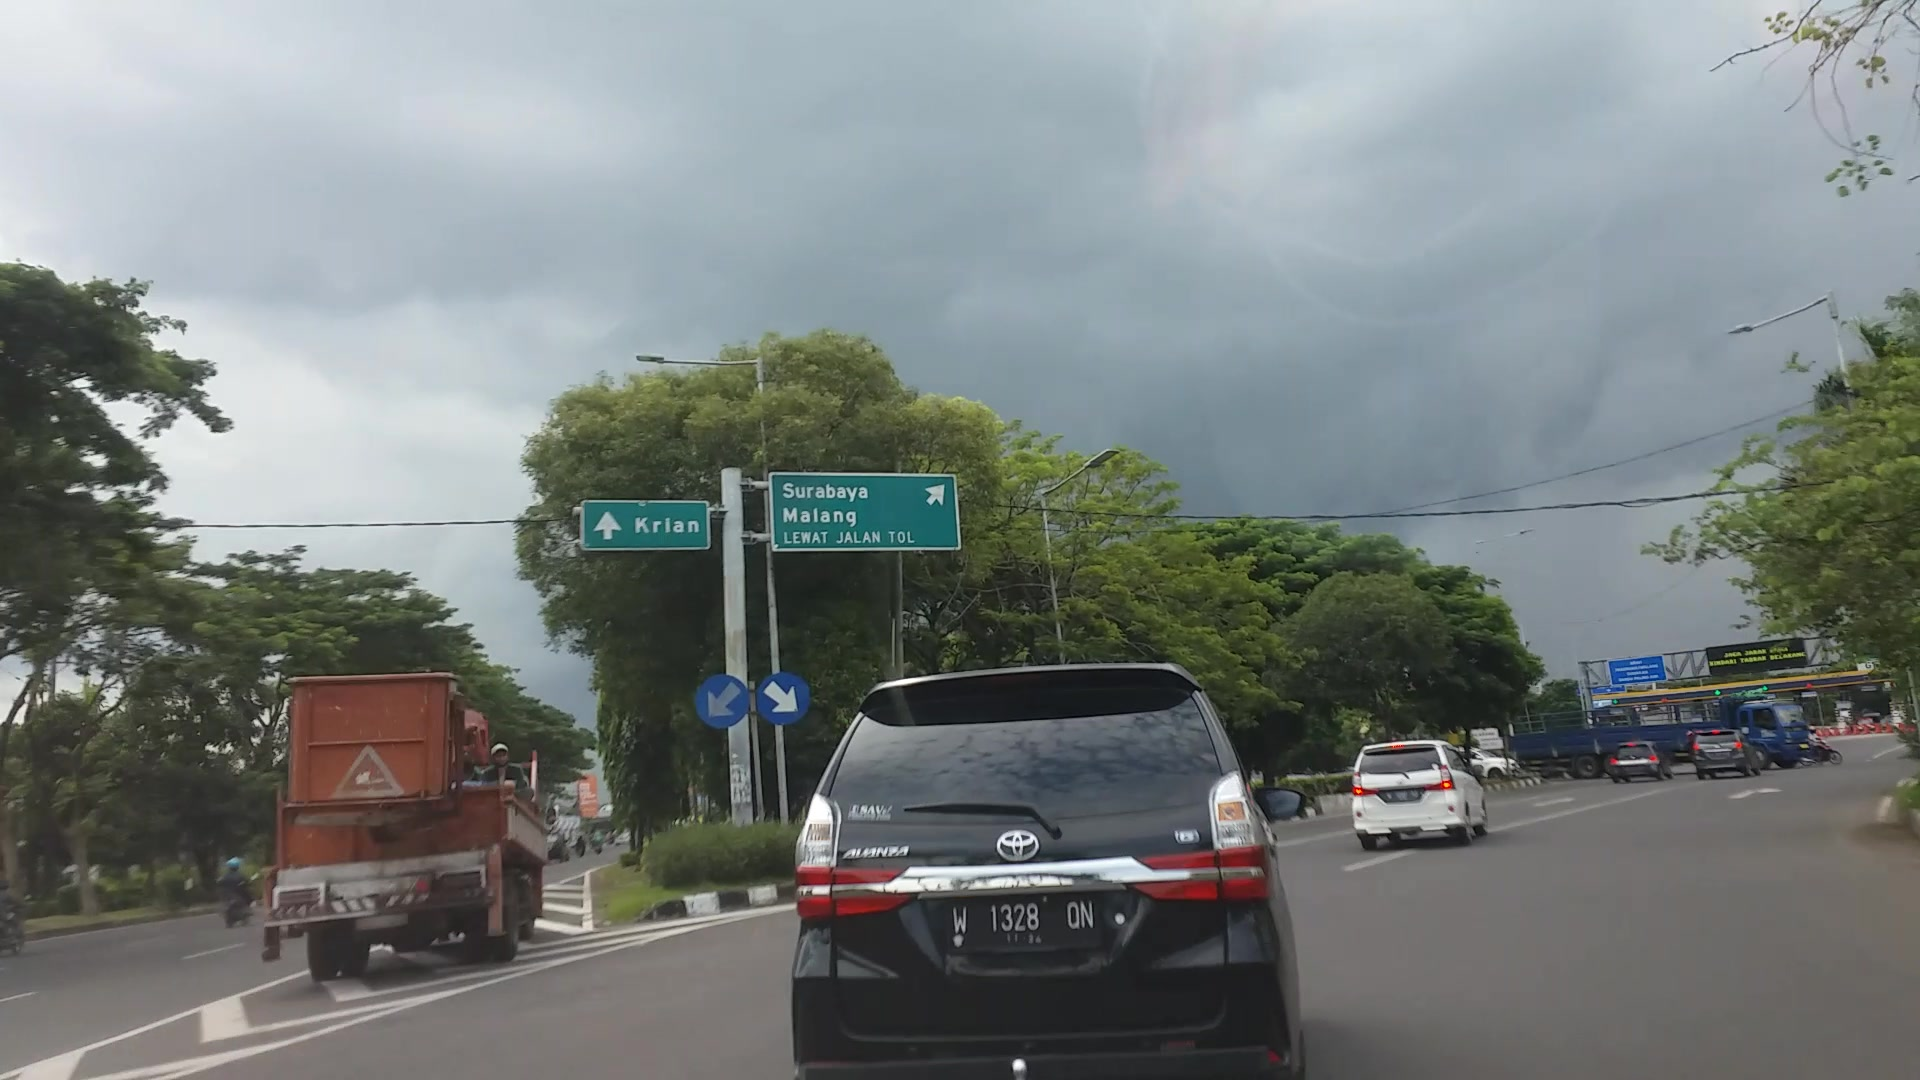plate_positive: (947, 899, 1105, 951)
